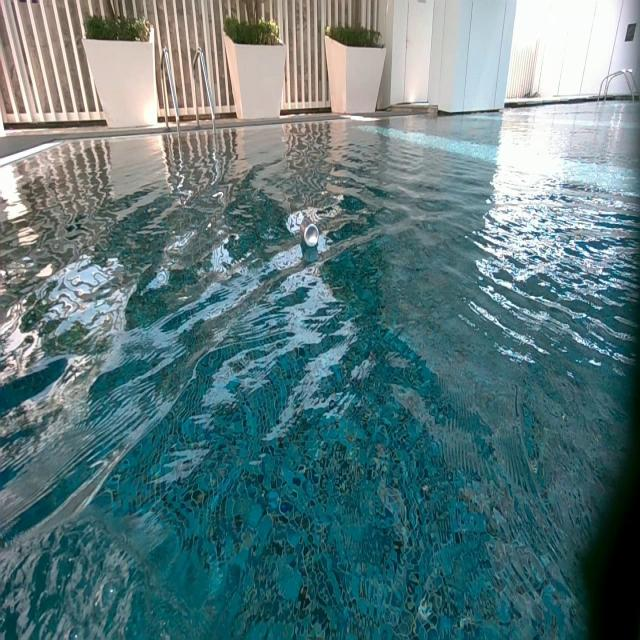Cans: (300, 215, 318, 248)
